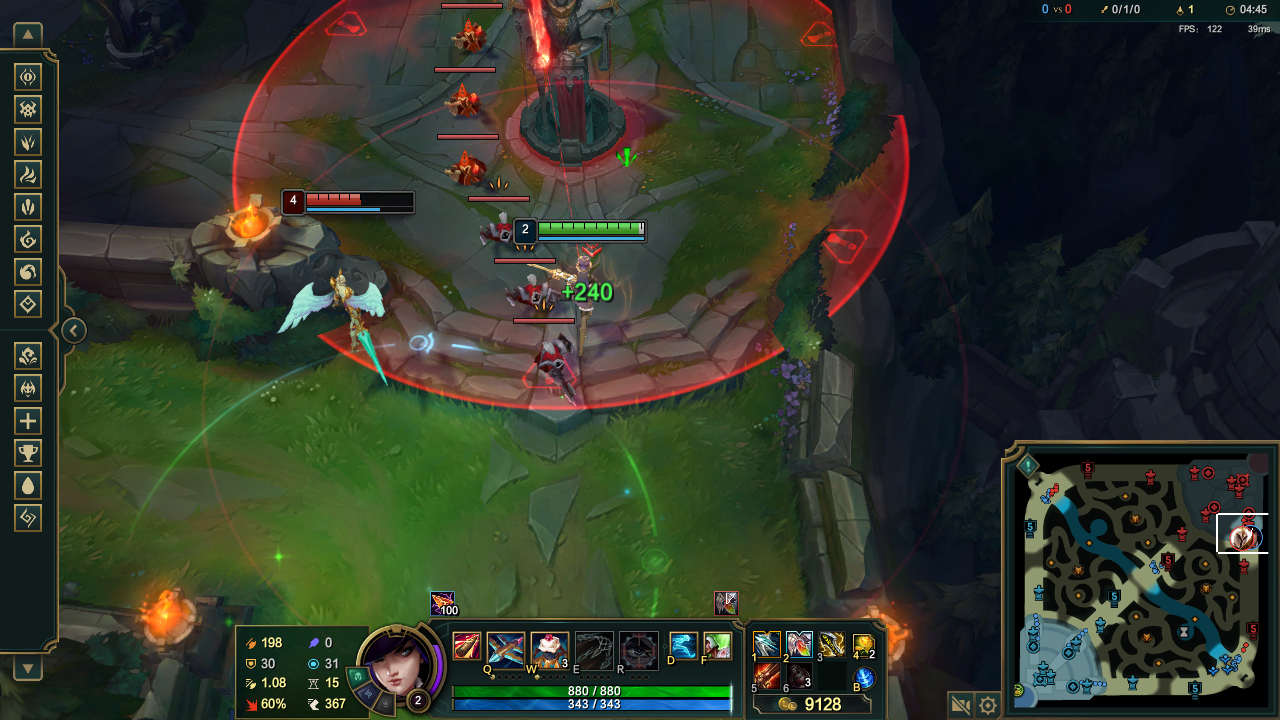DFFYT: (495, 5, 643, 165)
DFYX: (306, 190, 414, 206)
